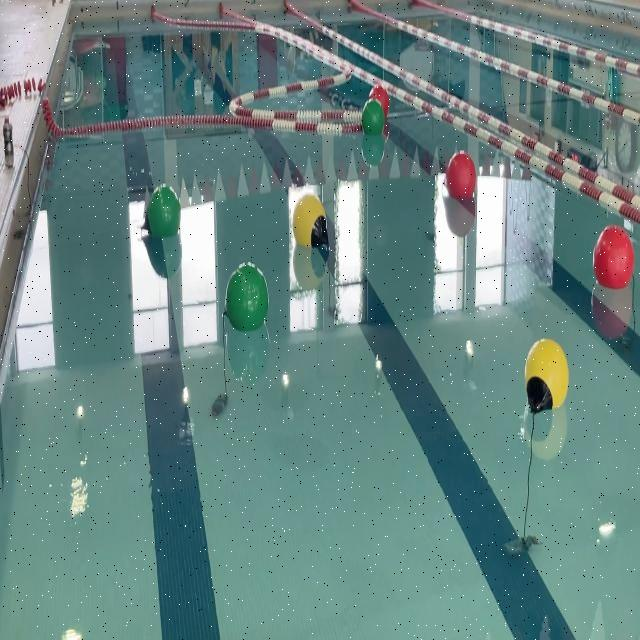buoy: (524, 337, 570, 412), (224, 262, 268, 332), (592, 224, 634, 292), (141, 186, 182, 242), (294, 192, 329, 252), (445, 150, 477, 205), (361, 100, 386, 138), (367, 84, 390, 119)
